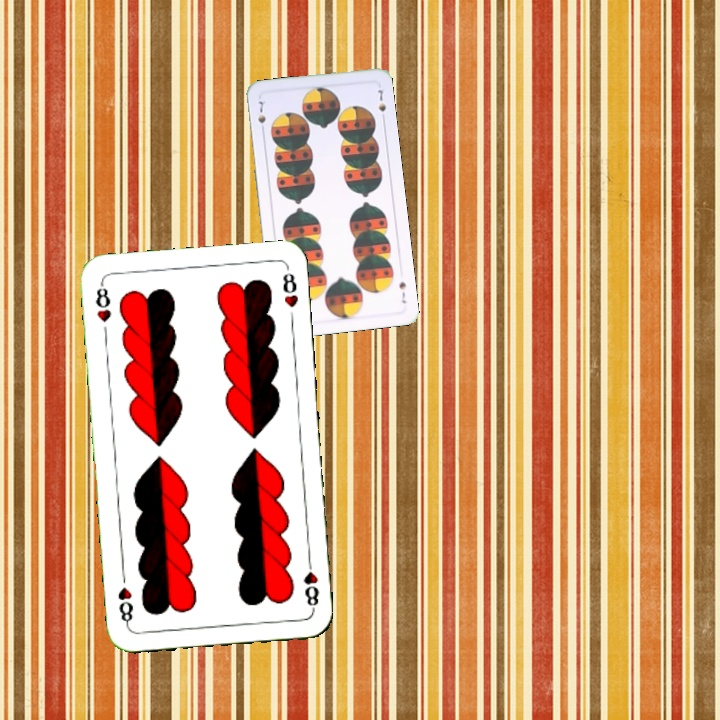H8: (300, 554, 322, 613), (91, 279, 114, 325)
S7: (254, 96, 268, 136), (395, 278, 409, 306)
